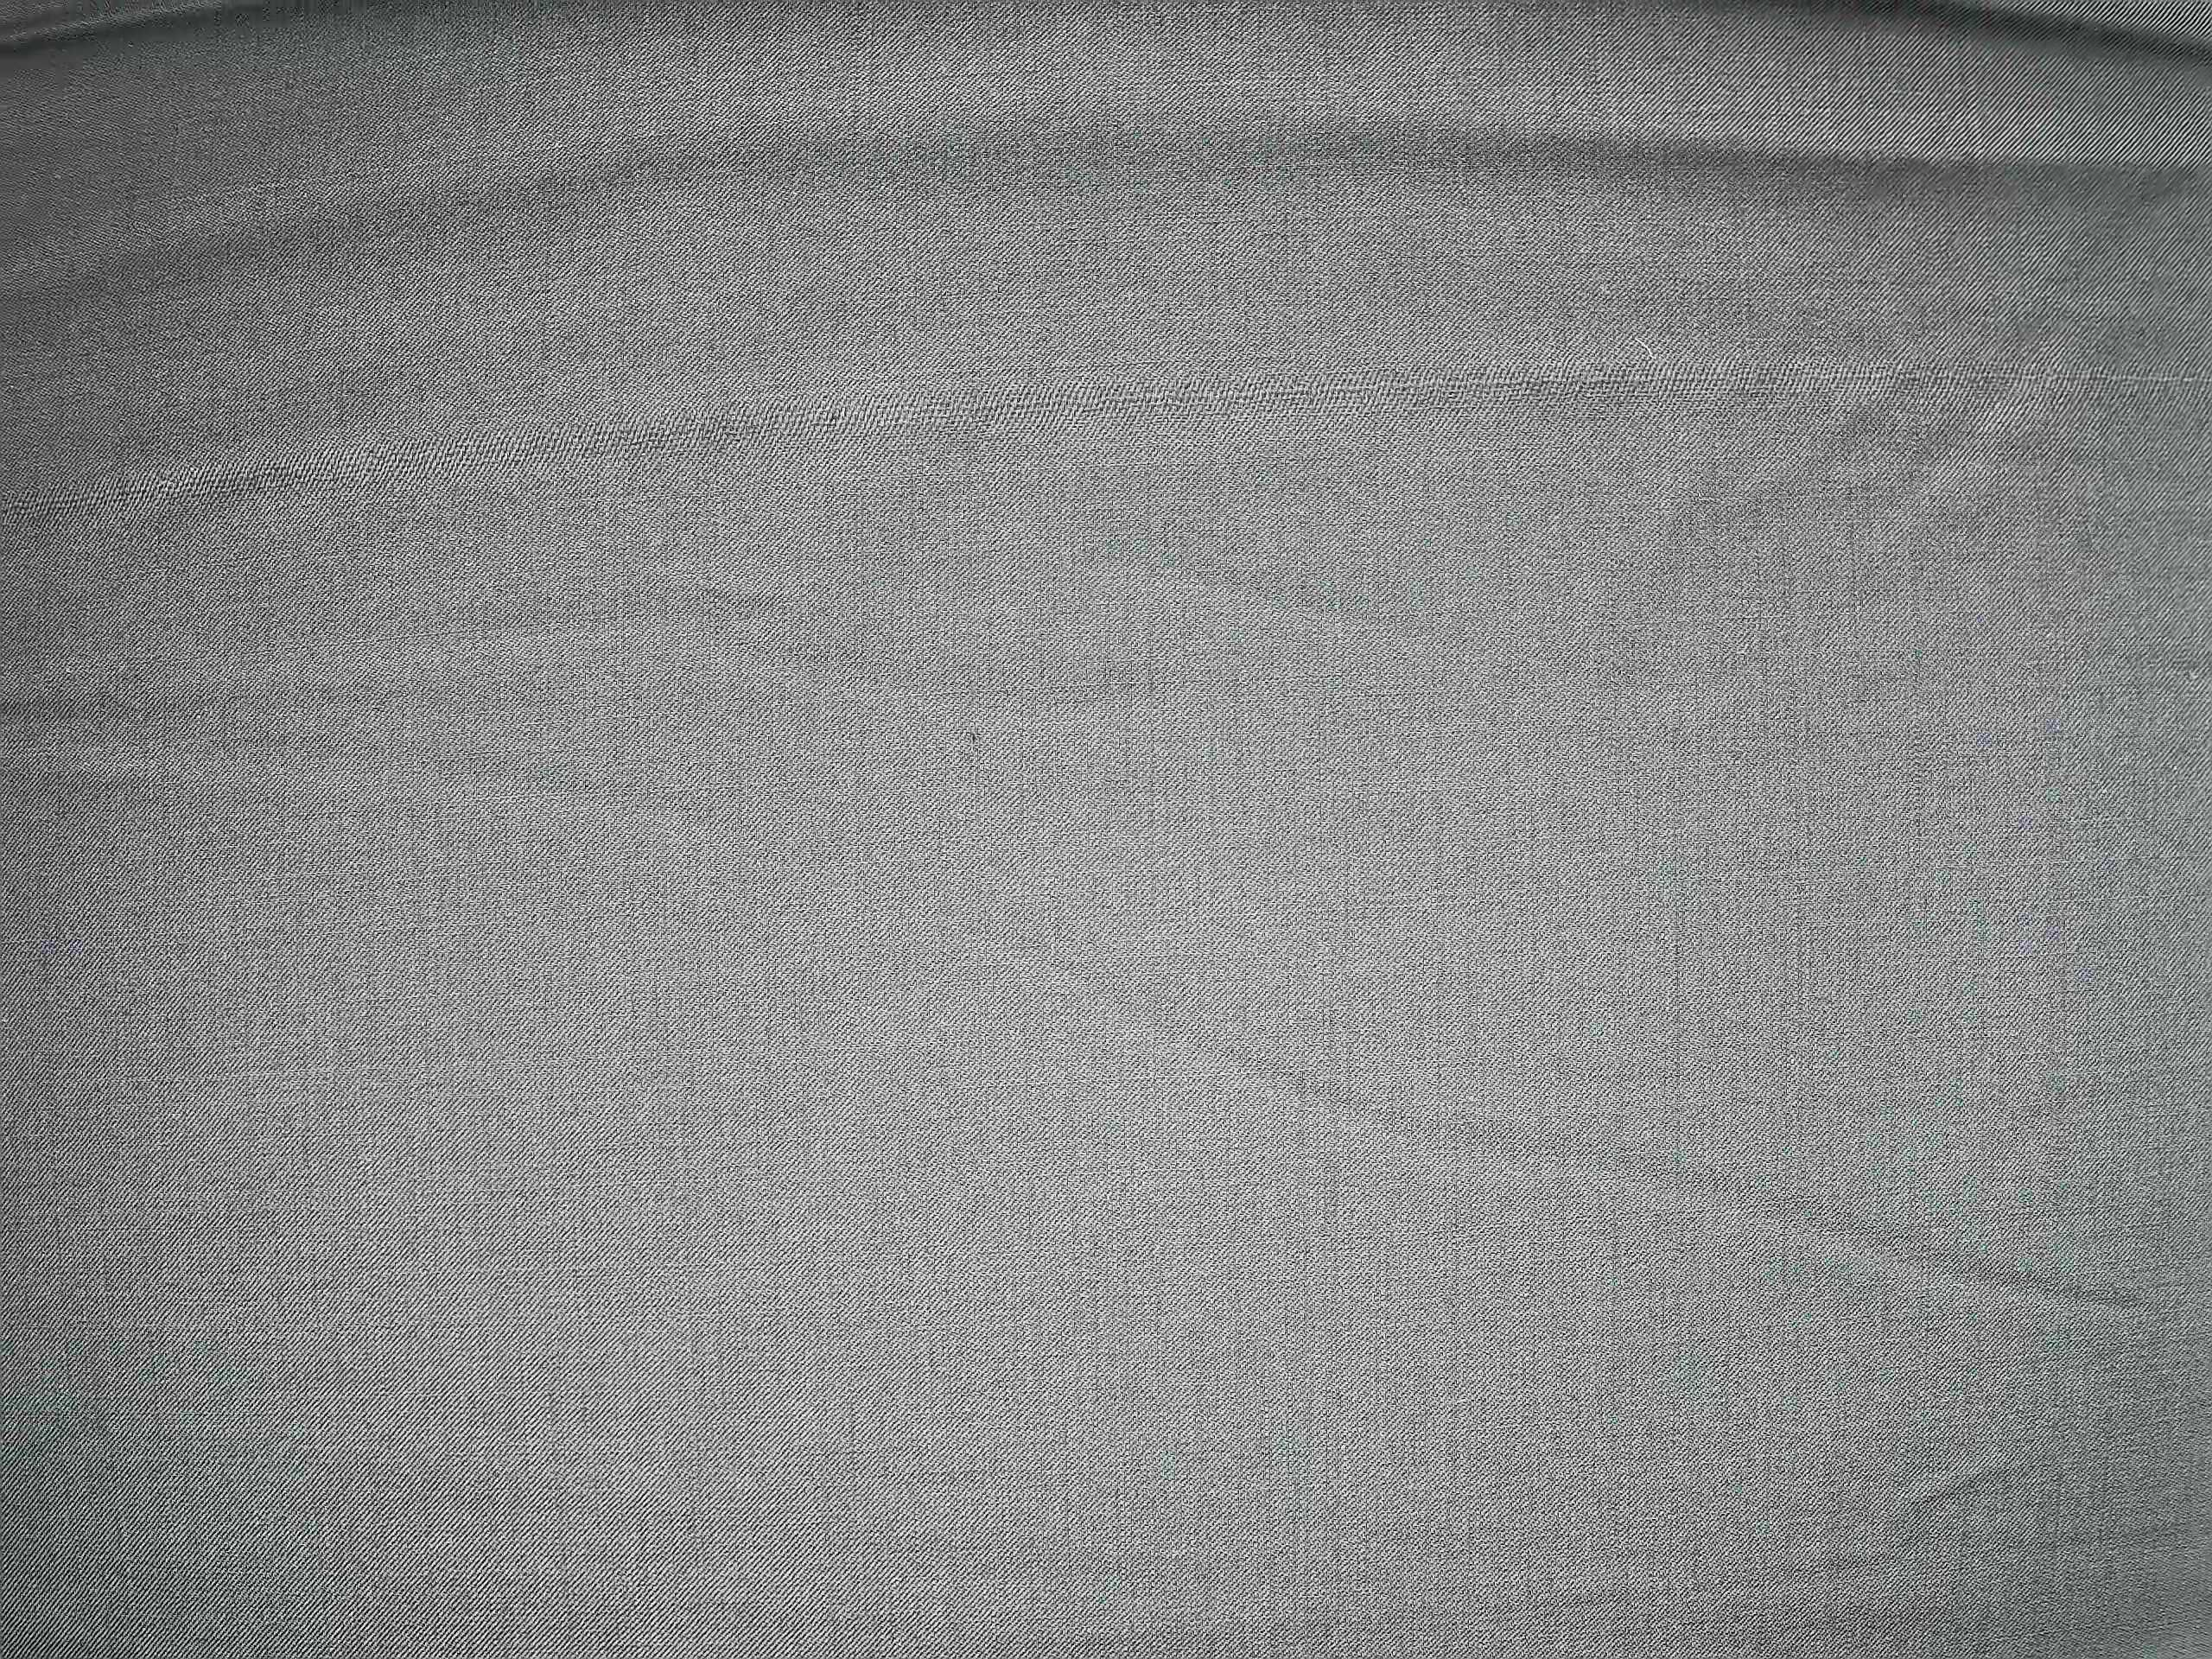thin-spinning: (0, 333, 2207, 538)
